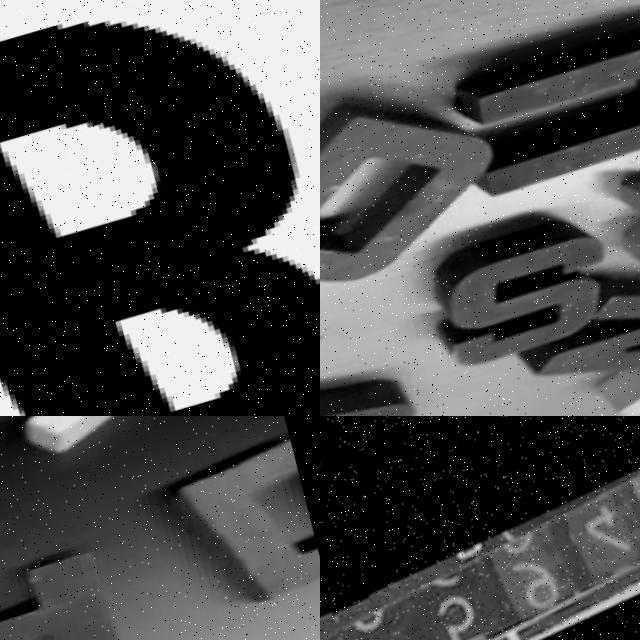4: (572, 487, 640, 568)
5: (427, 578, 500, 640)
9: (503, 539, 579, 624), (352, 620, 429, 640)
A: (0, 531, 152, 640)
B: (0, 14, 320, 416)
D: (320, 65, 523, 326)
G: (320, 342, 466, 416)
U: (444, 0, 640, 209)
Z: (0, 416, 221, 498)
